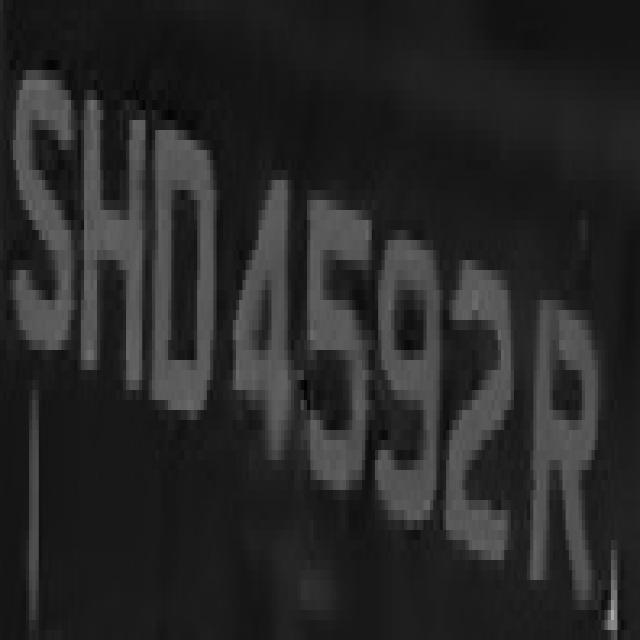2: (450, 210, 520, 600)
4: (213, 140, 304, 490)
5: (301, 150, 378, 510)
9: (362, 150, 440, 570)
D: (142, 120, 226, 430)
H: (74, 40, 149, 410)
R: (3, 4, 3, 10)
S: (10, 30, 71, 380)
